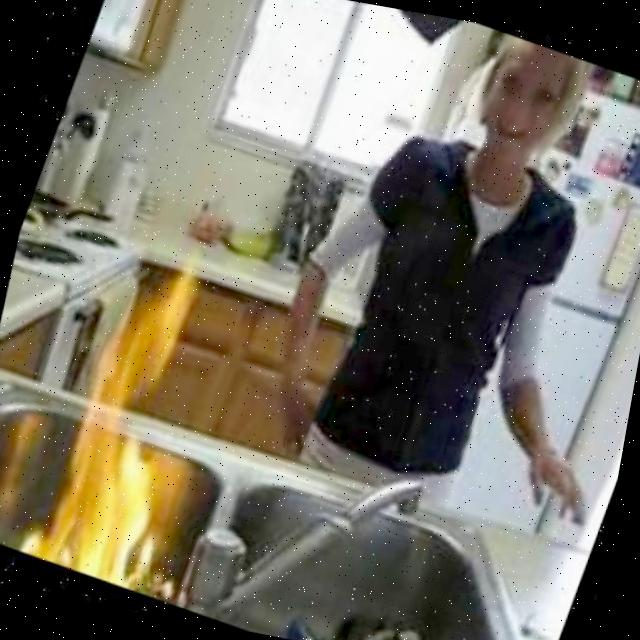fire: (16, 241, 256, 607)
